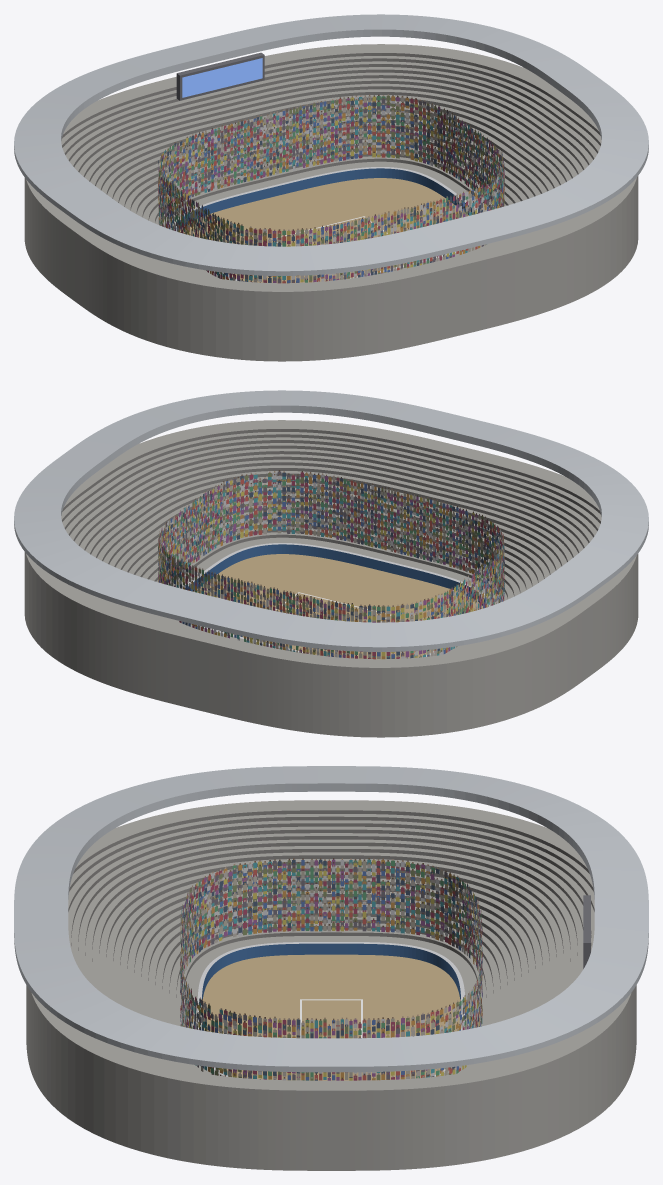
File: stadium.glb
3 views of the same model, one above another, from view 1: azimuth 30°, elevation 25°; view 2: azimuth 150°, elevation 25°; view 3: azimuth 270°, elevation 25° (orthographic). The views are drawn at different scales.
Parts seen in each view (by area): view 1: Stadium_Stands, Stadium_Roof, Stadium_Crowd, Stadium_Floor, Stadium_Screen; view 2: Stadium_Stands, Stadium_Roof, Stadium_Crowd, Stadium_Floor; view 3: Stadium_Stands, Stadium_Roof, Stadium_Crowd, Stadium_Floor.
Boxes of the visible parts, <box> form: Stadium_Stands: <box>24,44,638,361</box>; Stadium_Roof: <box>14,14,648,275</box>; Stadium_Crowd: <box>158,94,504,283</box>; Stadium_Floor: <box>180,178,468,283</box>; Stadium_Screen: <box>176,52,264,100</box>; Stadium_Stands: <box>24,420,638,737</box>; Stadium_Roof: <box>14,390,648,651</box>; Stadium_Crowd: <box>158,470,504,659</box>; Stadium_Floor: <box>194,554,482,659</box>; Stadium_Stands: <box>26,800,636,1170</box>; Stadium_Roof: <box>14,766,648,1072</box>; Stadium_Crowd: <box>180,858,482,1080</box>; Stadium_Floor: <box>201,954,461,1080</box>.
Size of the model in its own units: 93.2 by 16.6 by 83.2.
